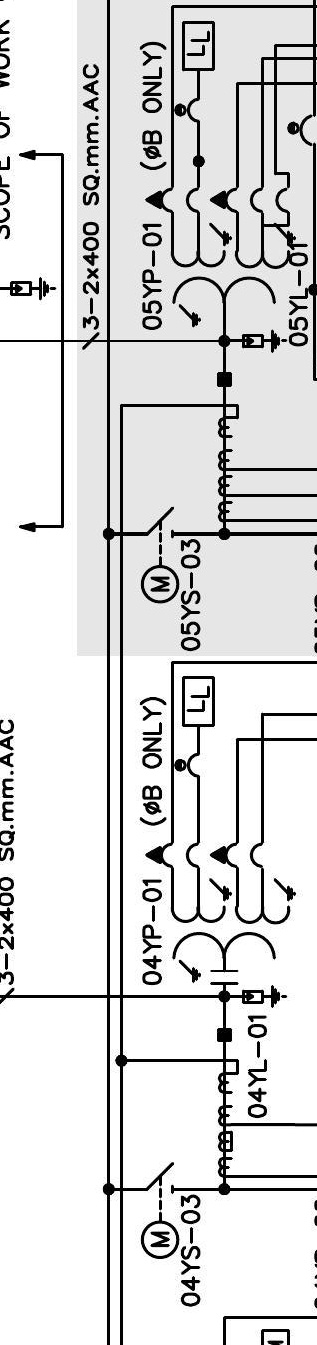115_1way_ds_w_motor: (140, 1161, 180, 1260), (140, 506, 180, 605)
115_cvt_1p: (145, 840, 297, 986)
115_la: (242, 984, 288, 1009), (242, 329, 288, 353), (10, 277, 57, 300)
115_vt_1p: (145, 185, 296, 328)
LL: (182, 20, 216, 72), (182, 676, 216, 727)
